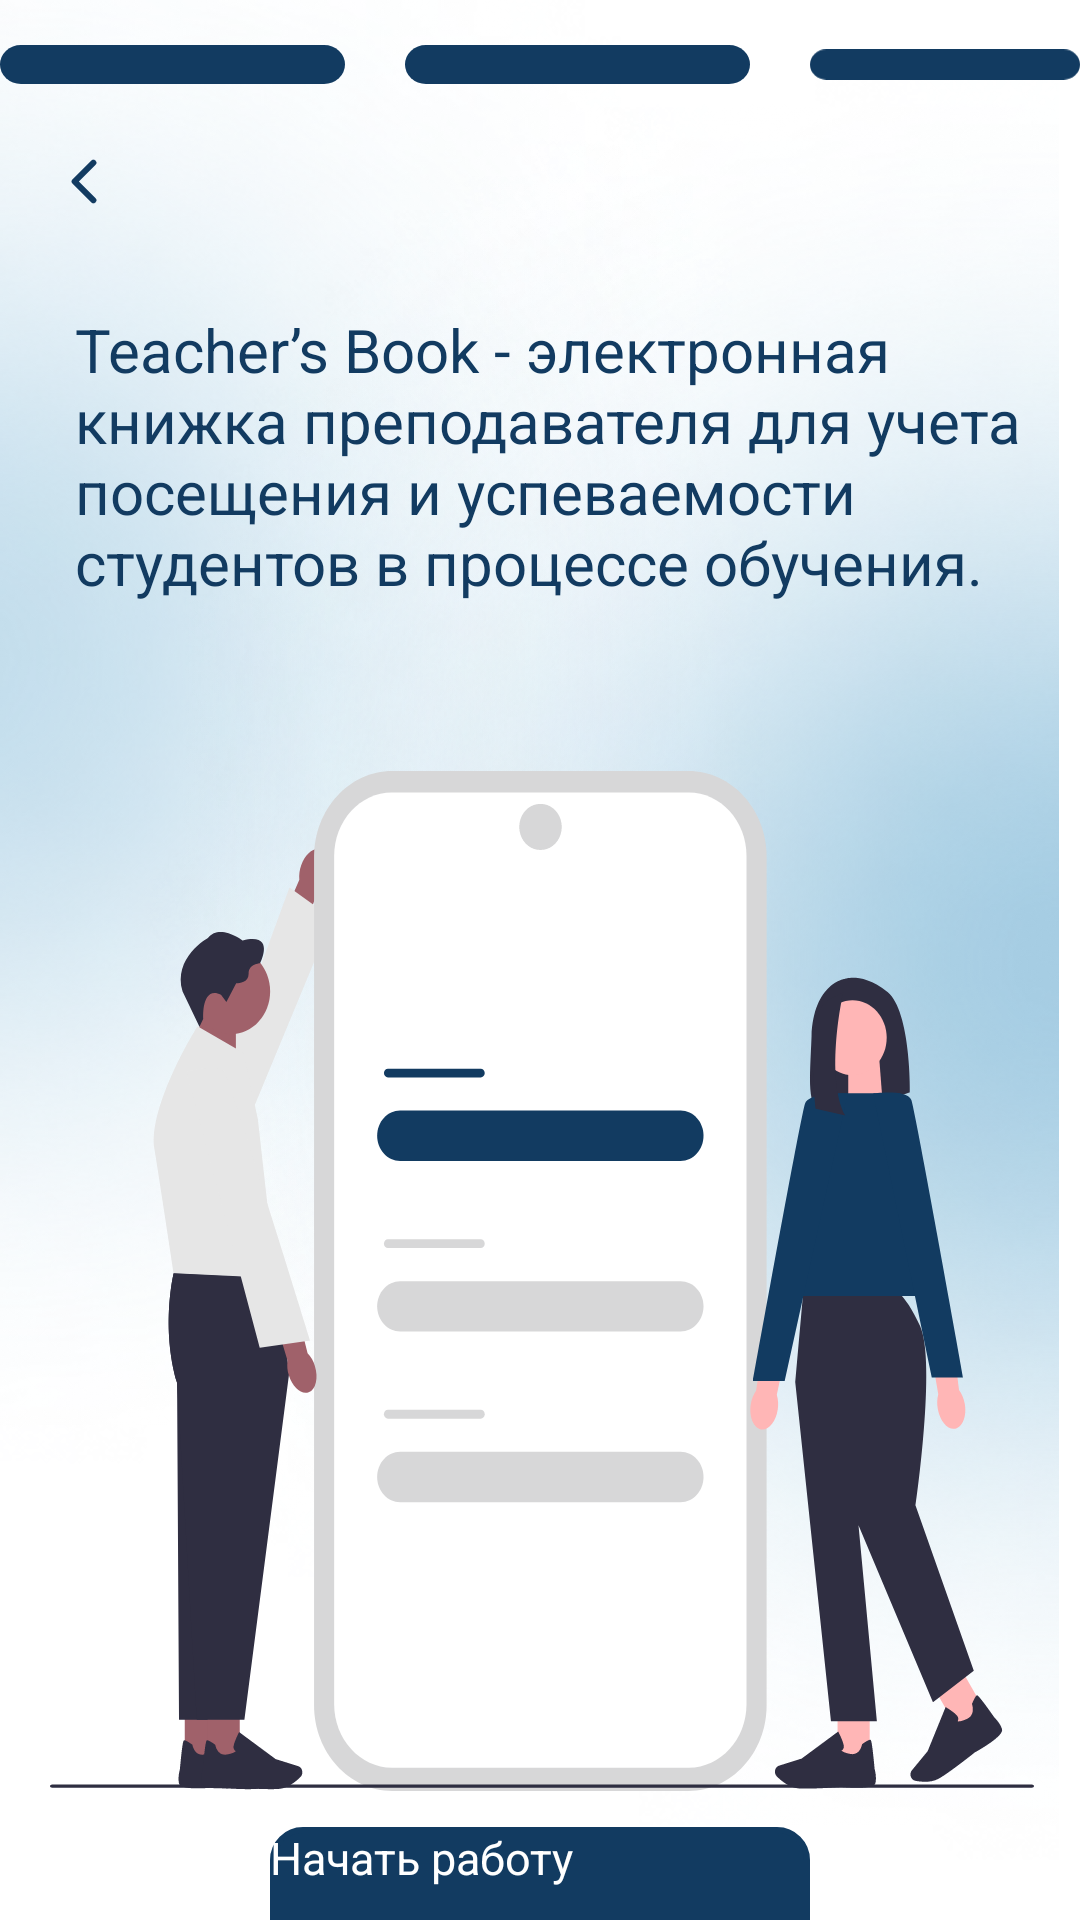

Icons on this 1080 × 1920 Android screen, each with its box as (x1, y1, x2, y2):
left arrow: (71, 159, 97, 204)
